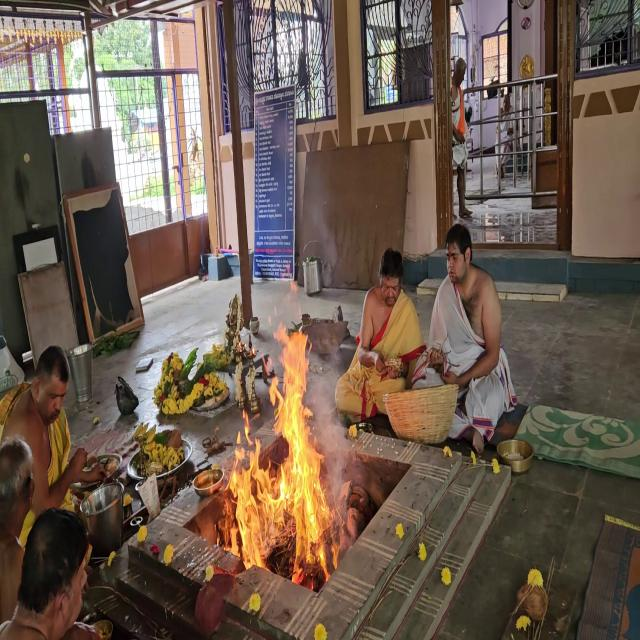fire: (202, 316, 346, 588)
